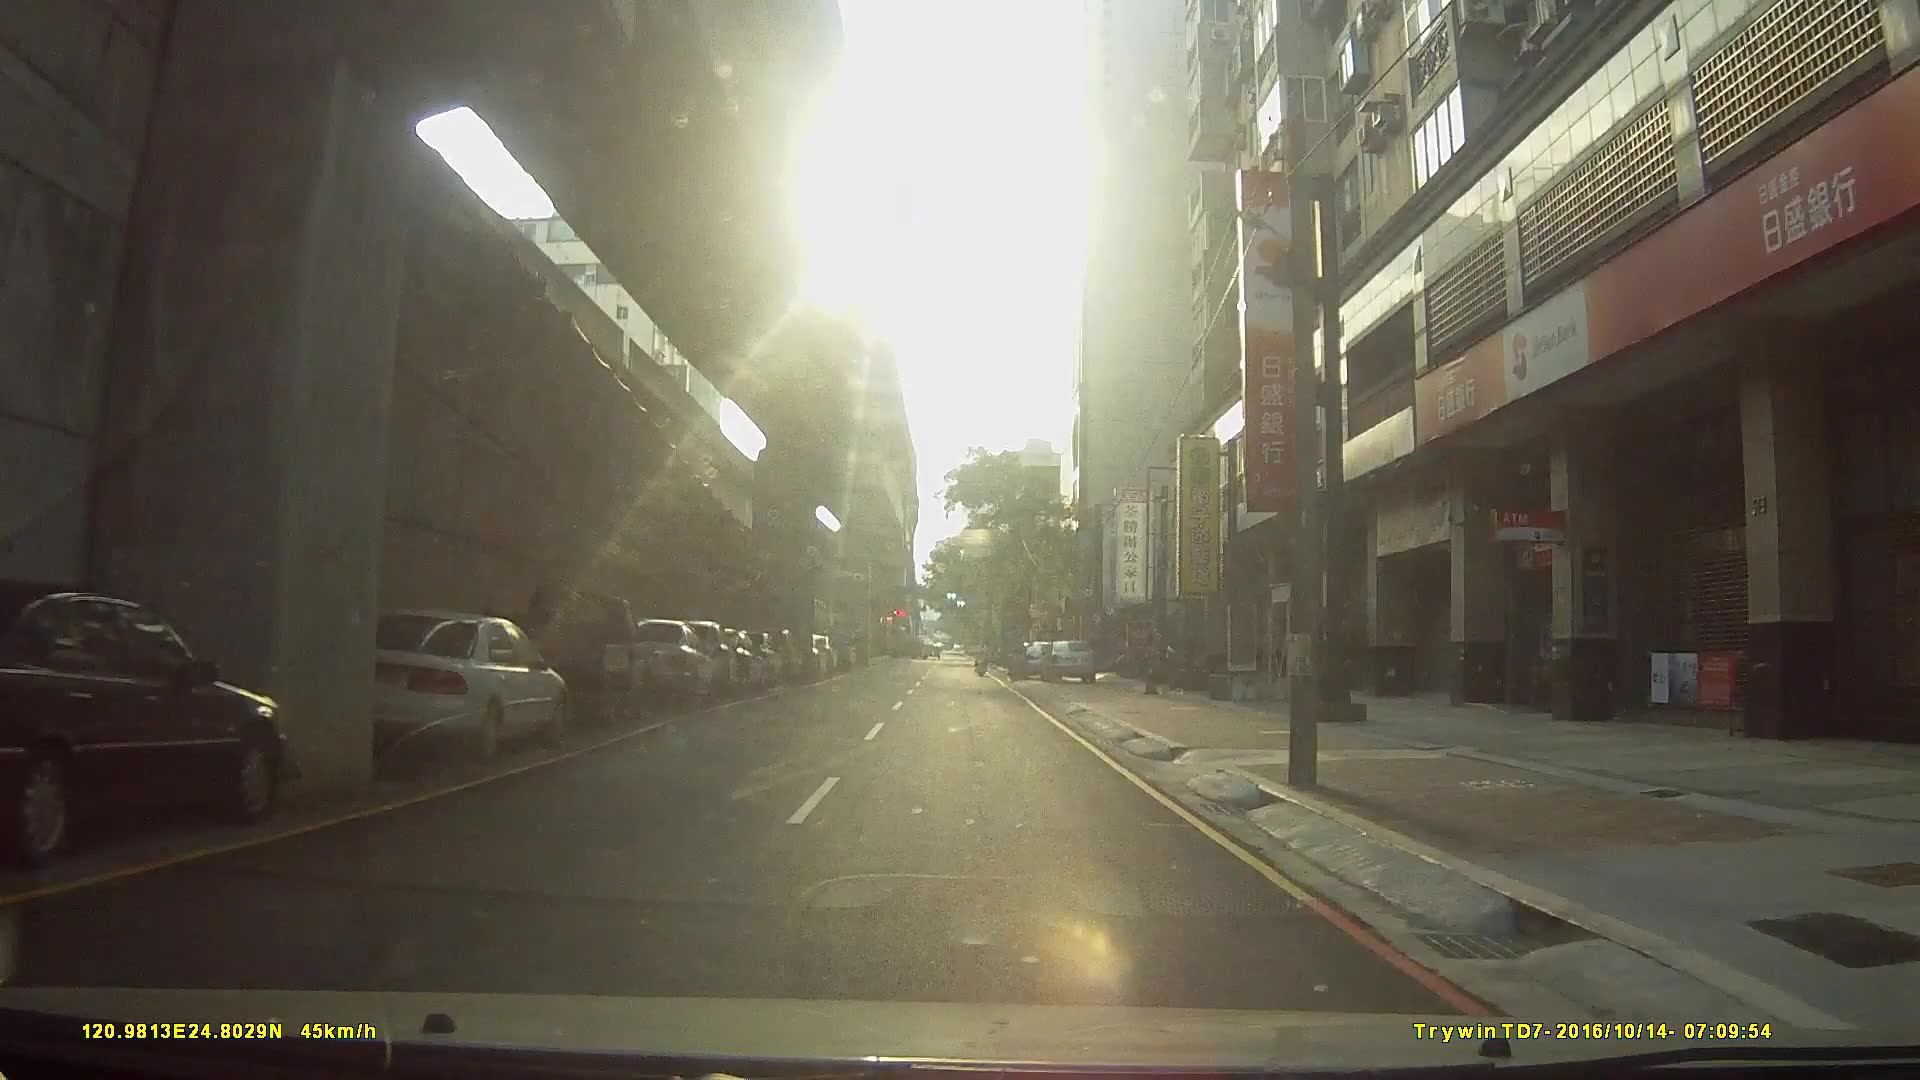vehicle: (0, 580, 286, 869), (334, 605, 564, 762), (475, 592, 651, 717), (597, 617, 717, 709), (659, 620, 794, 670), (1035, 637, 1096, 684)
